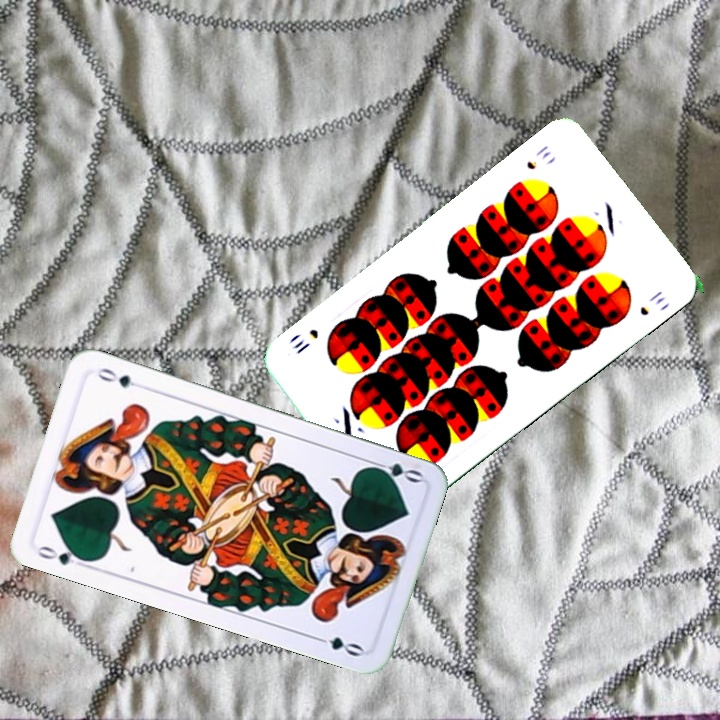GO: (364, 456, 424, 486), (33, 541, 92, 571)
S10: (522, 141, 554, 173)
